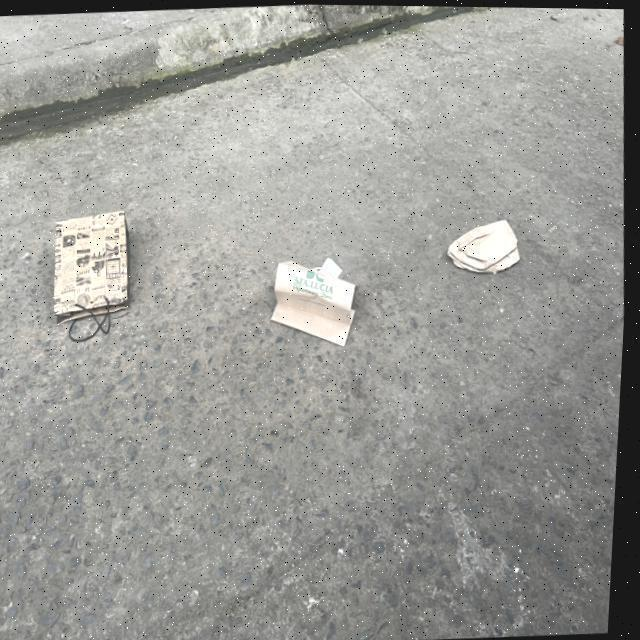Paper_Bag: (52, 208, 138, 342), (272, 254, 364, 349), (445, 212, 524, 281)
